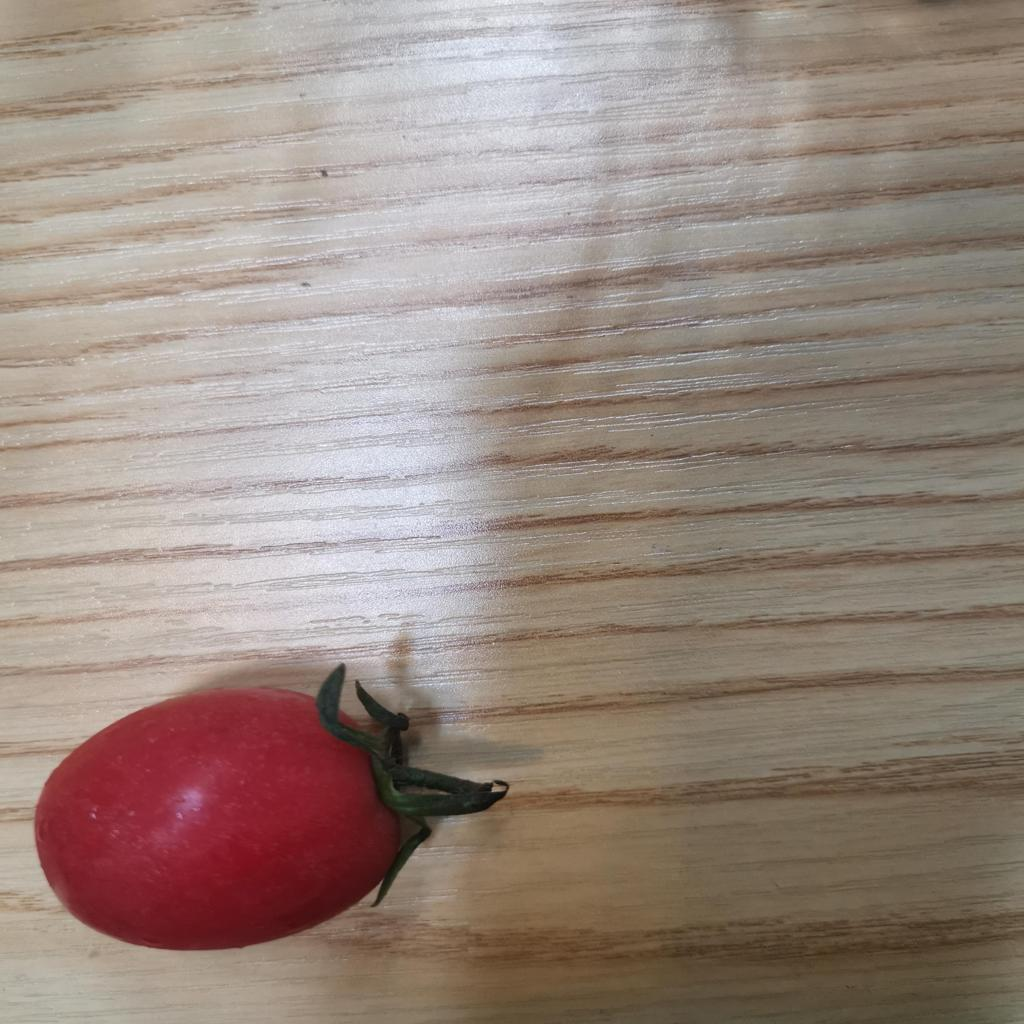tomato: (41, 680, 483, 945)
